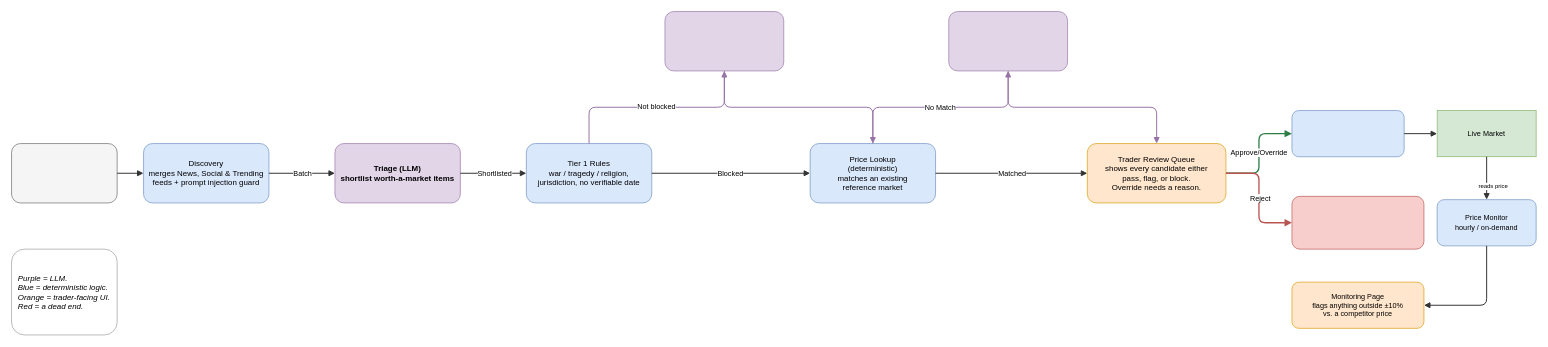
Image size: 1548x347. Some labels were removed from this diagram. The box of each missing label's shape, as (x1, y1, x2, y2) in pixels:
Price Estimate (LLM): (948, 11, 1068, 71)
Publish: (1291, 110, 1404, 157)
Rejected decision + reason logged, no market goes live: (1291, 196, 1424, 249)
Tier 2 Judgment (LLM): (664, 11, 784, 71)
Trigger Trader click, or 8:00 / 15:00 daily: (11, 143, 117, 203)
